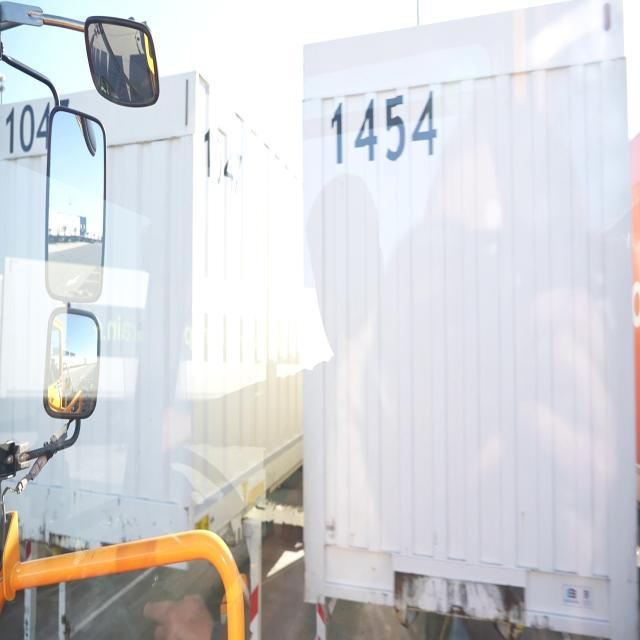Code: (332, 86, 442, 166)
